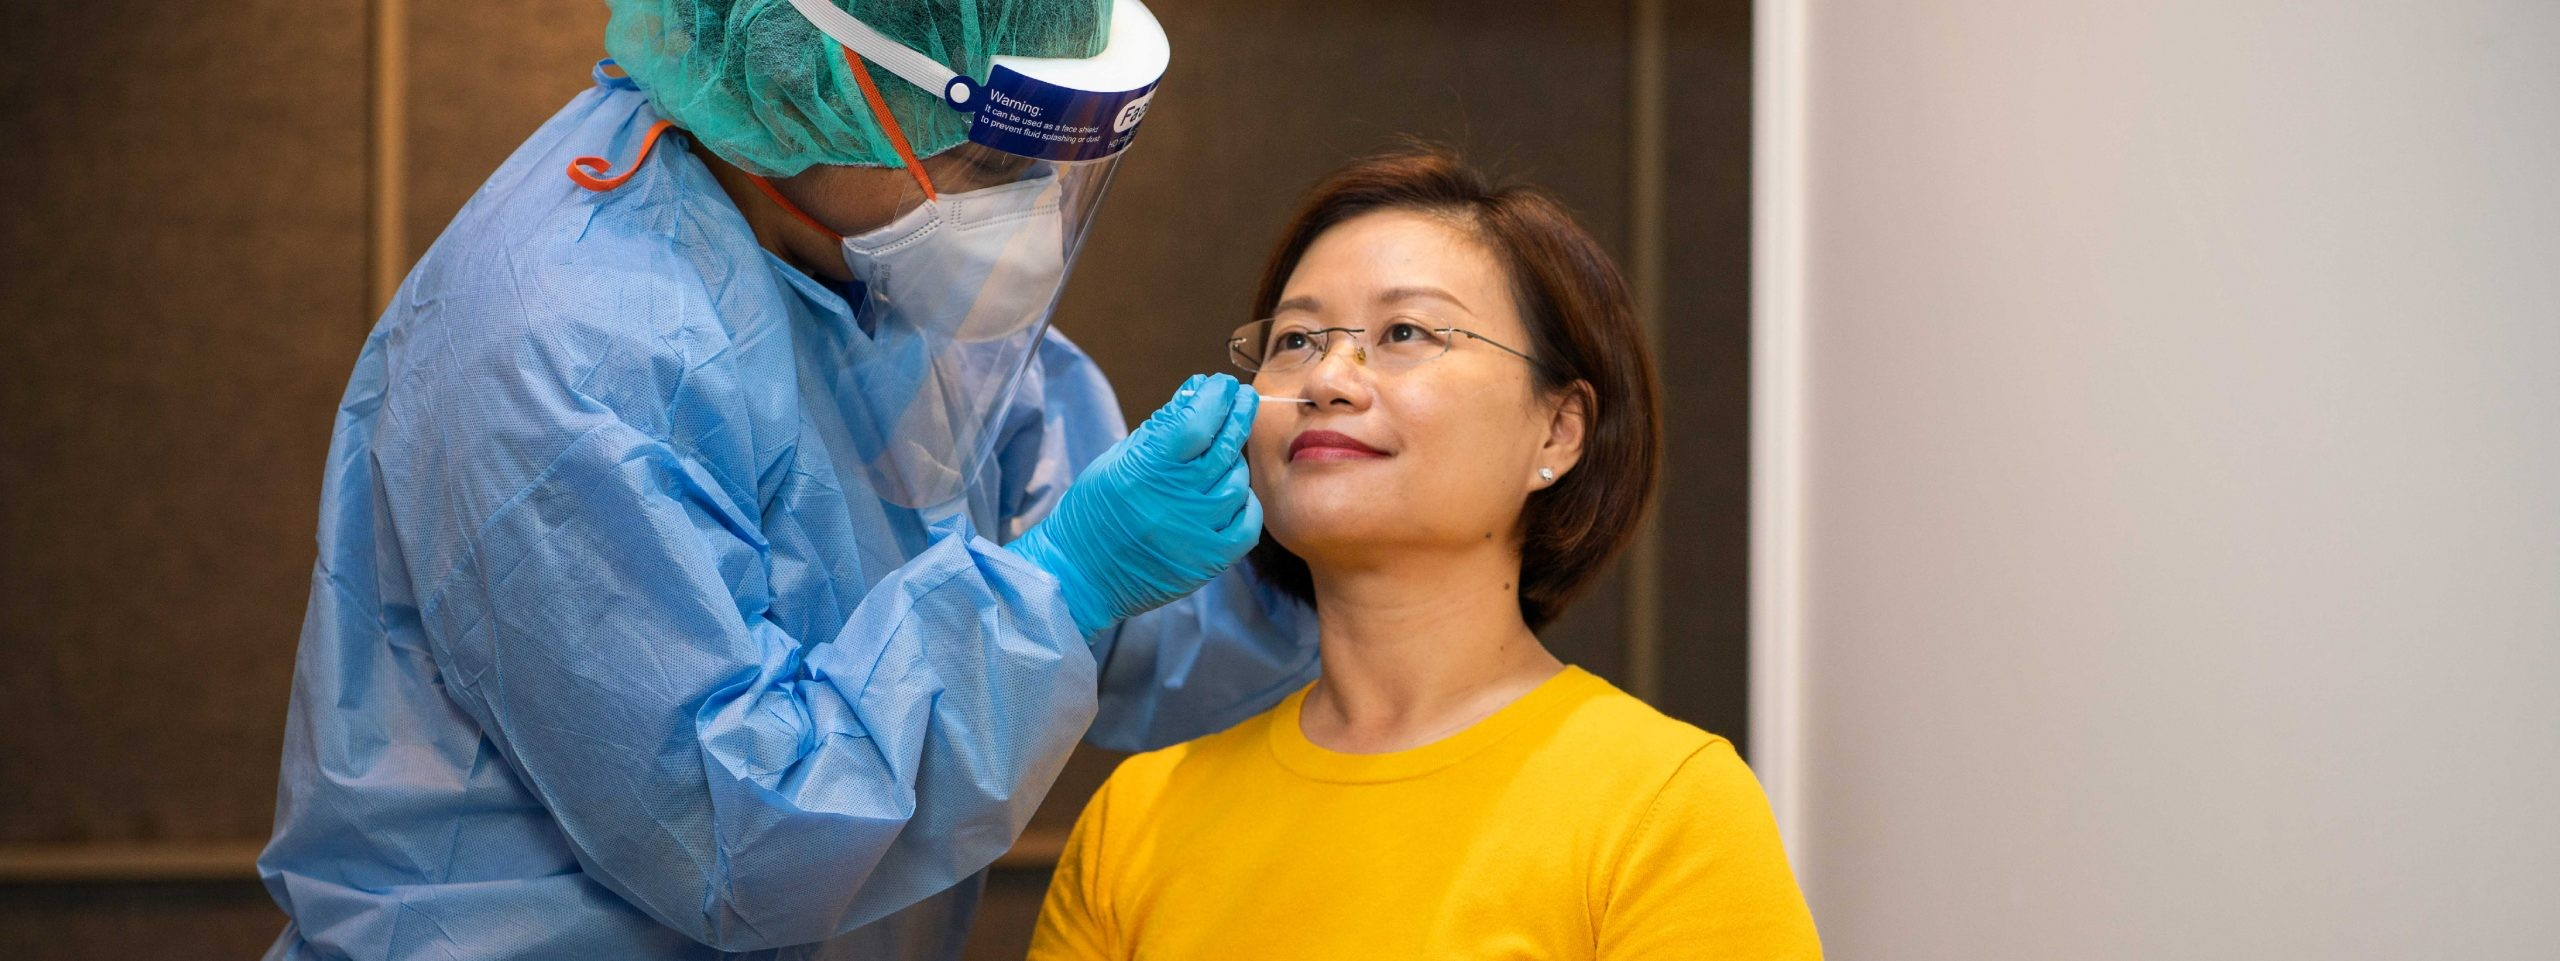Coverall: (265, 87, 1065, 961)
Face_Shield: (846, 8, 1191, 541)
Gloves: (1024, 358, 1268, 652)
without_mask: (1243, 280, 1465, 560)
